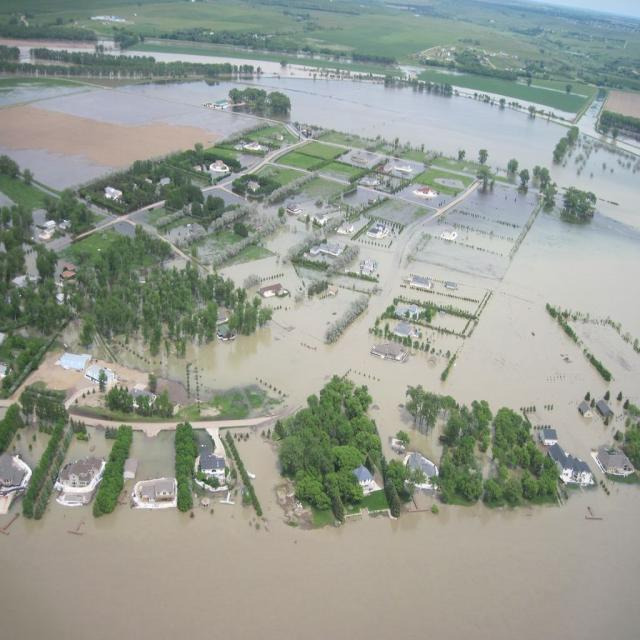flood: (0, 432, 640, 640), (120, 183, 540, 463), (251, 77, 640, 228), (440, 212, 640, 460), (0, 78, 260, 138), (0, 146, 110, 190), (130, 433, 174, 480), (394, 185, 455, 208), (67, 429, 112, 460), (416, 325, 464, 354), (10, 429, 47, 466), (430, 312, 468, 333), (343, 188, 377, 206)
house: (586, 89, 640, 149), (129, 477, 176, 507), (595, 446, 635, 476), (59, 462, 95, 491), (562, 460, 592, 486), (200, 451, 226, 478), (351, 464, 376, 489), (259, 282, 285, 300), (392, 321, 414, 338), (538, 427, 558, 445), (597, 399, 616, 417), (580, 401, 592, 418)
